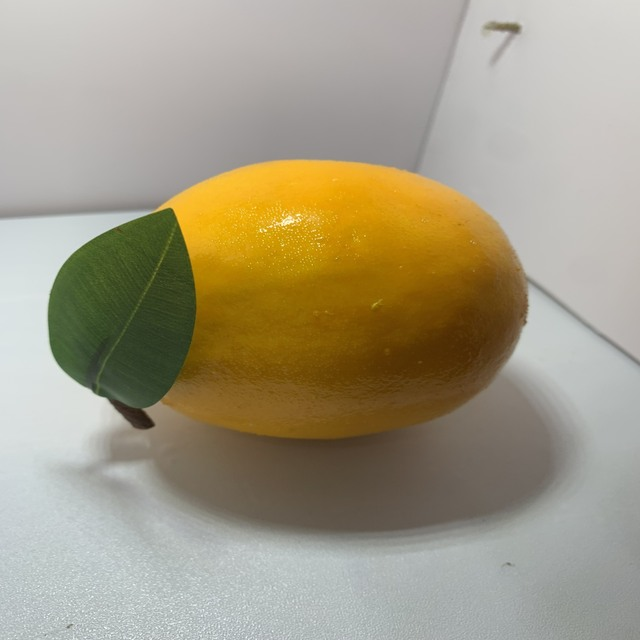Cam vang: (107, 159, 536, 450)
